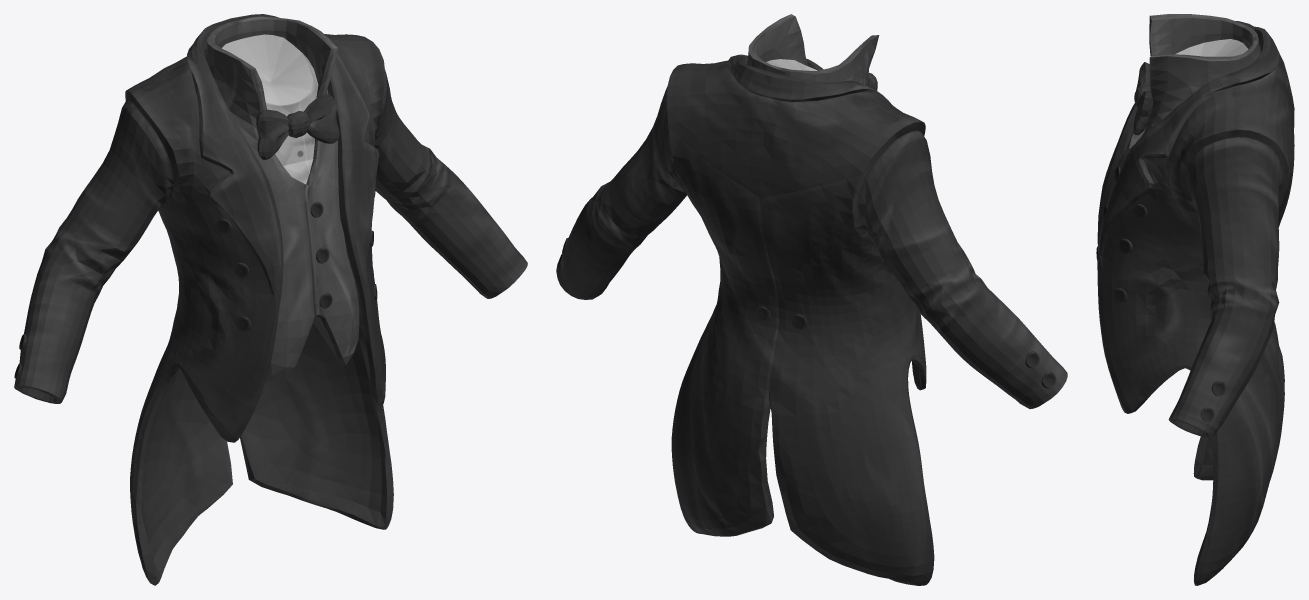
The model's file is BlackTuxedoJacketwithTails.glb.
The picture shows the model from 3 angles, left to right: view 1: azimuth 30°, elevation 25°; view 2: azimuth 150°, elevation 25°; view 3: azimuth 270°, elevation 25°; orthographic projection. The views are drawn at different scales.
Size of the model in its own units: 0.2659 by 0.2599 by 0.0938.
Materials: 1 (1 with a texture image).
